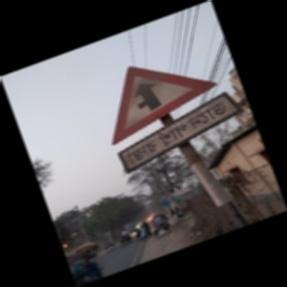Side-road-right: (109, 58, 238, 172)
